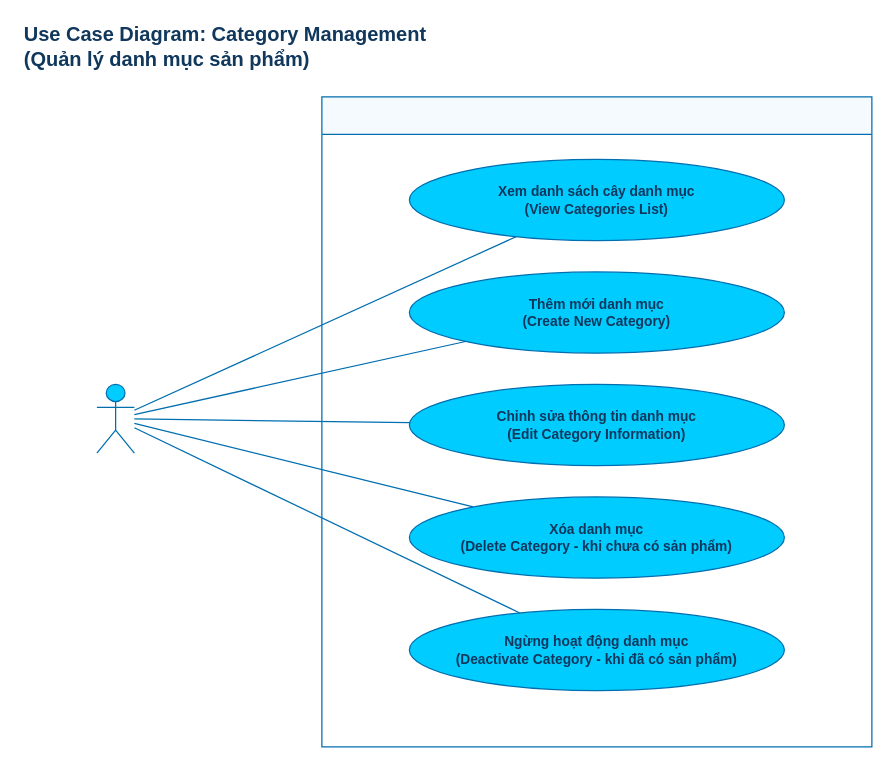
Image size: 894x769. Some labels were removed from this diagram. The shapes that lost their labels are listed below. From the top down, each one's box as (x1, y1, x2, y2) in pixels, then its label:
(96, 383, 134, 453): Business Manager
(321, 96, 872, 747): OmniCore WMS - Phân hệ Danh mục sản phẩm
